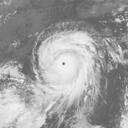cyclone: (34, 31, 101, 96)
